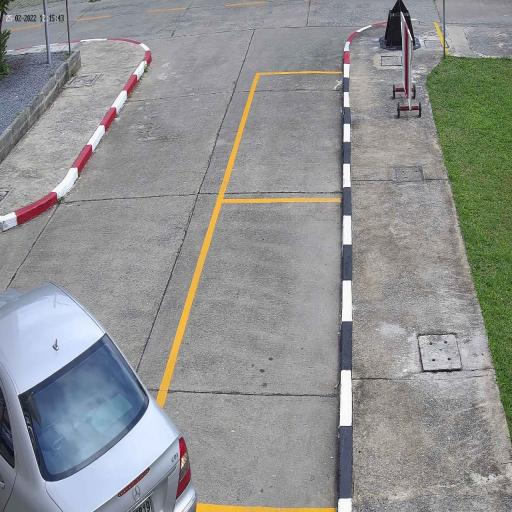car: (0, 284, 196, 512)
